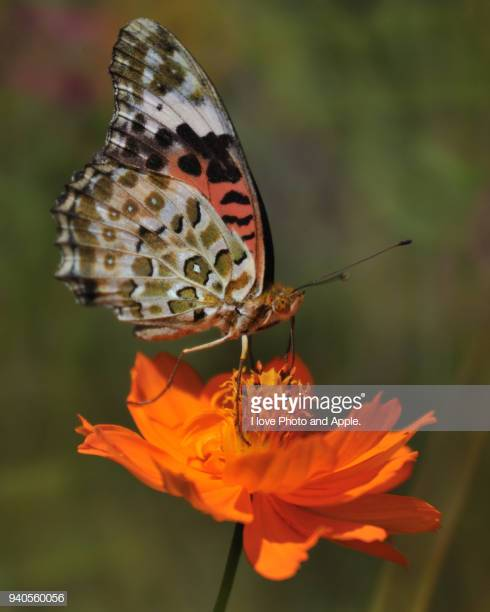Argyreus hyperbius: (44, 11, 416, 448)
butterfly: (46, 13, 418, 450)
